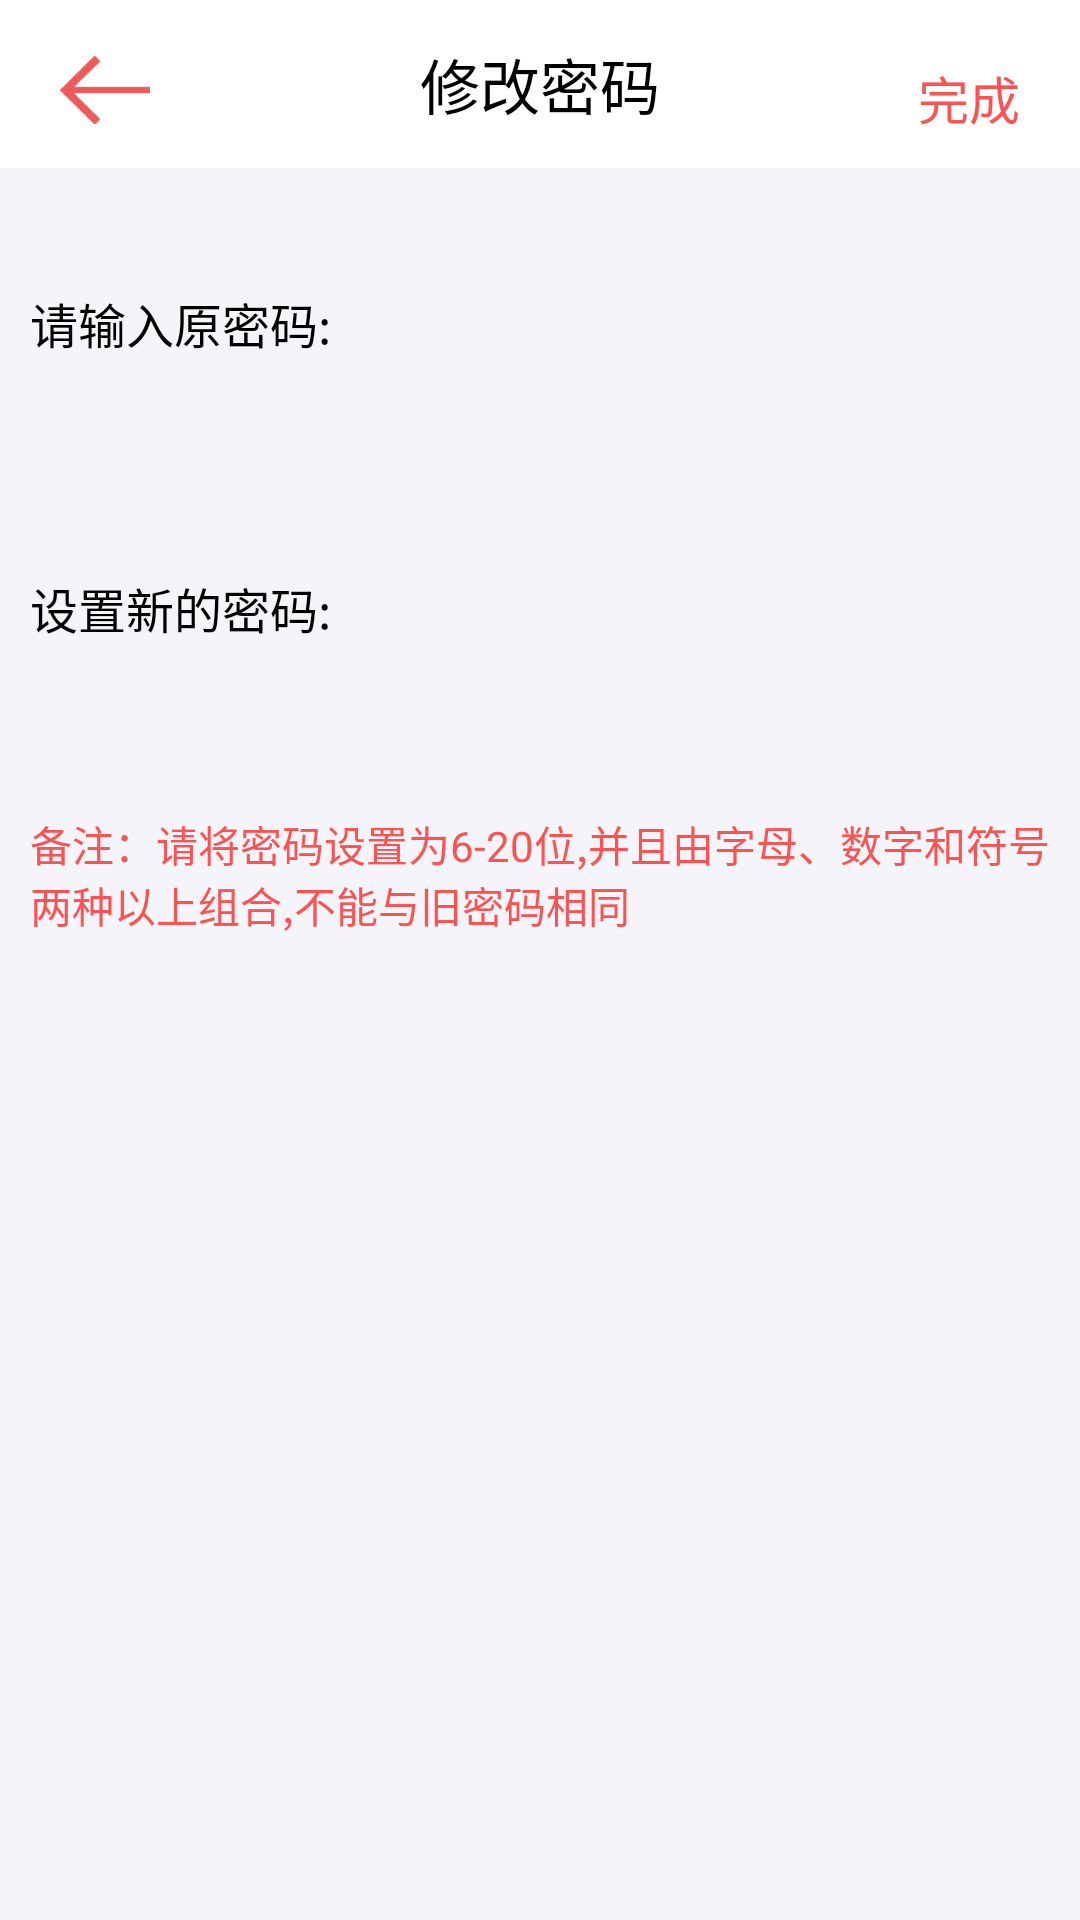

Point at icon controls on the screen. Image size 1080 × 1920, points as (x,y).
return: (105,90)
